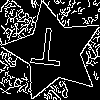T: (28, 26, 65, 76)
